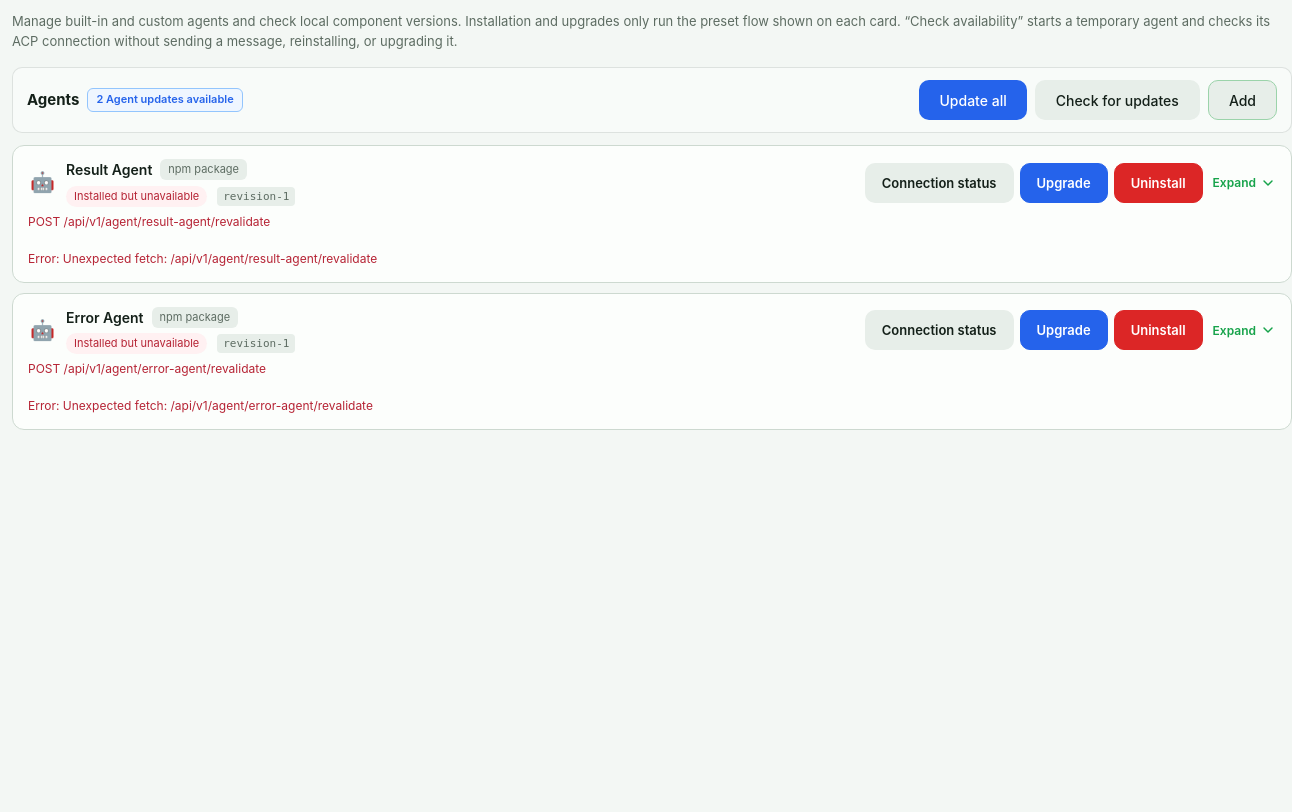
Test: AgentInstallSettings batch upgrades › keeps completed results and request errors visible when the final catalog refresh fails
Click the button with test id "agent-upgrade-all-button" at (973, 100), box [920,80,1027,120]
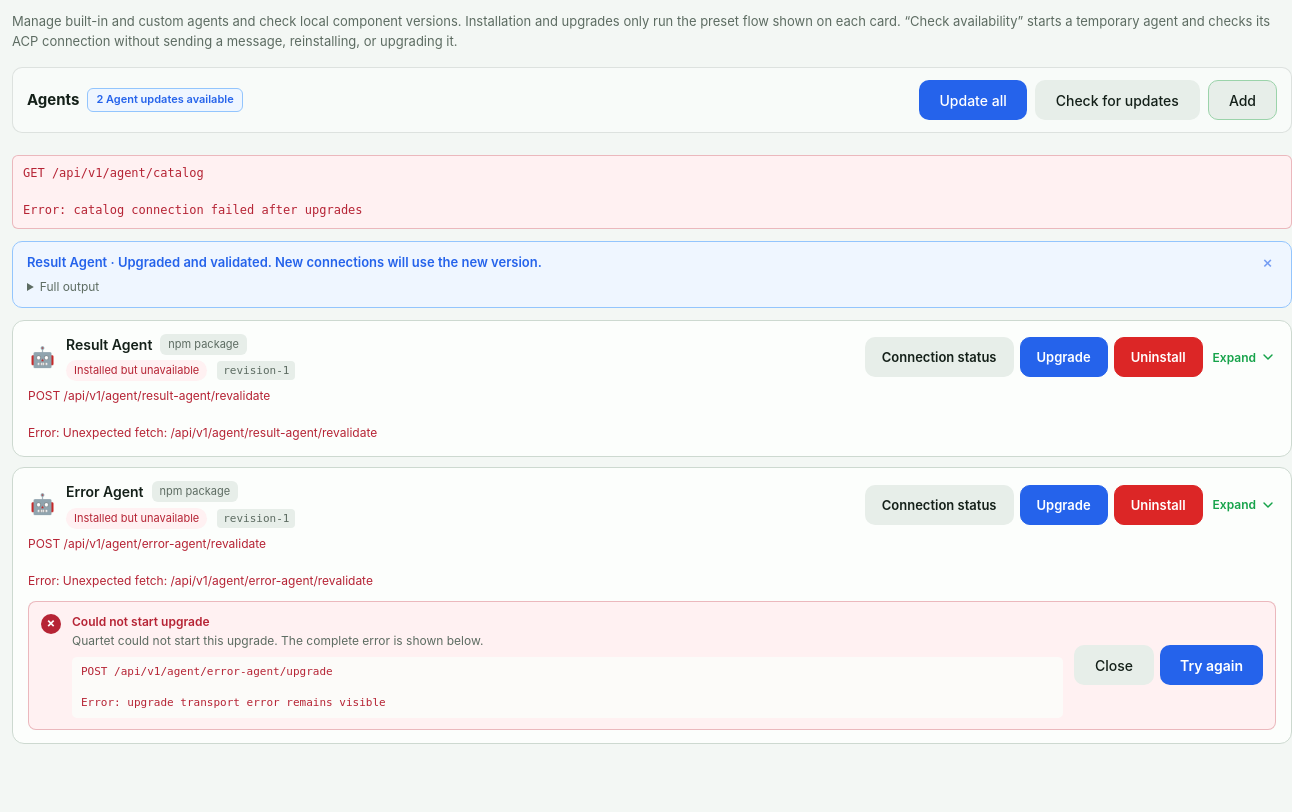
expect the text "GET /api/v1/agent/catalog Error: catalog connection failed after upgrades" is shown: met, box [12,155,1291,229]
expect the text "Result Agent · Upgraded and validated" is shown: met, box [27,252,542,272]
expect the text "upgrade transport error remains visible" is shown: met, box [81,664,386,709]
